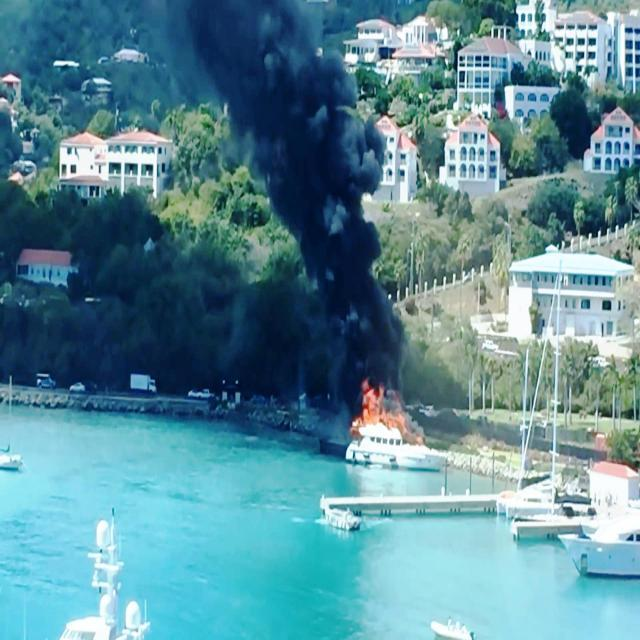Fire: (358, 377, 406, 435)
Smoke: (258, 49, 374, 202), (203, 0, 329, 107), (295, 156, 379, 283), (336, 258, 406, 368)
